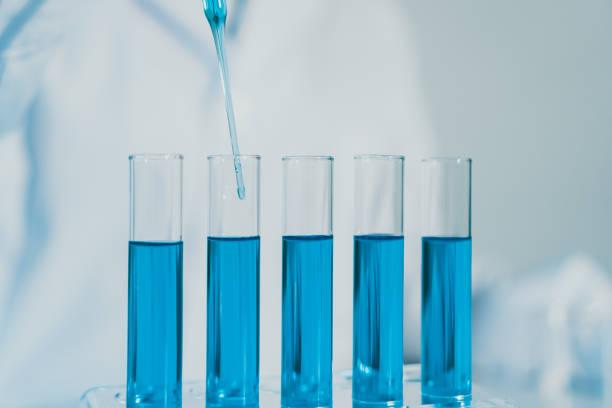Test tube: (118, 135, 181, 402), (347, 144, 406, 406), (420, 145, 475, 404), (279, 144, 333, 403), (207, 144, 258, 402)
